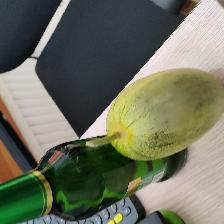gua: (101, 71, 223, 150)
